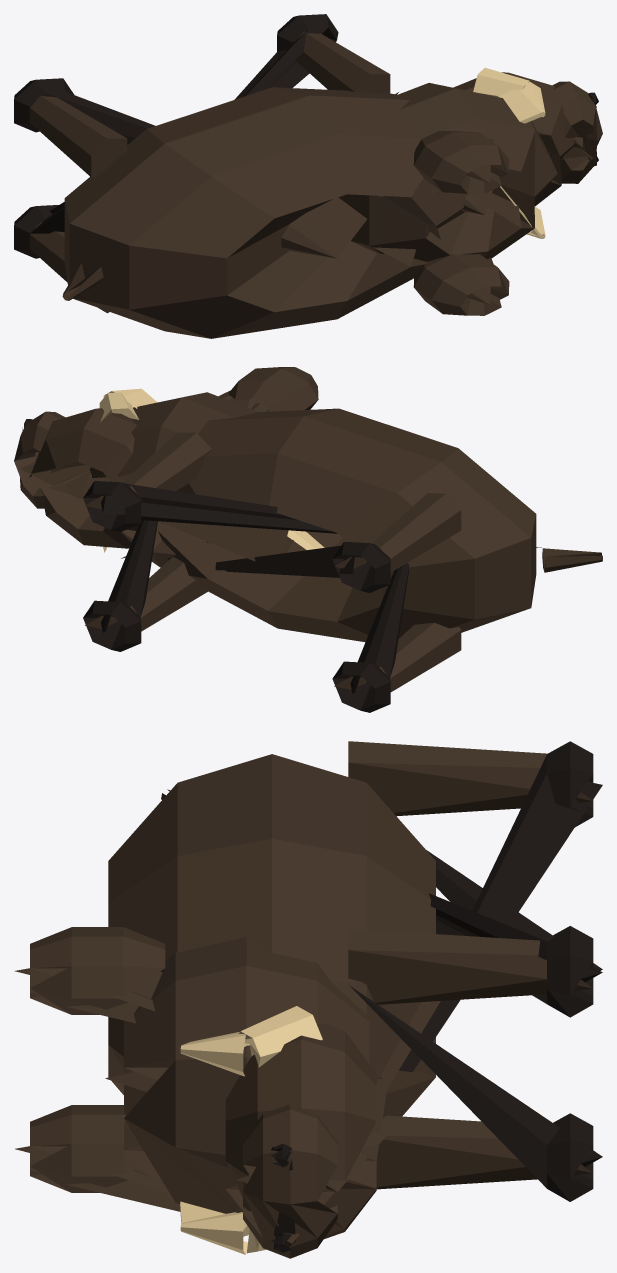
The model's file is boar_lowpoly.obj.
3 renders of one model, top to bottom at view 1: azimuth 30°, elevation 25°; view 2: azimuth 150°, elevation 25°; view 3: azimuth 270°, elevation 25°, orthographic. The views are drawn at different scales.
Visible parts, largest first — view 1: Boar; view 2: Boar; view 3: Boar.
Part boxes in pixels (<box>): Boar: <box>14,14,602,338</box>; Boar: <box>14,367,602,712</box>; Boar: <box>14,741,602,1258</box>.
Bounding box in the file's own units: 2.67 × 0.9454 × 1.62.
